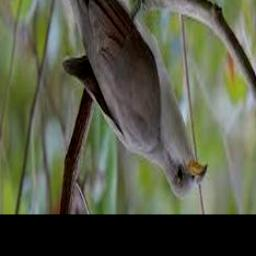Cuckoo: (46, 0, 207, 200)
